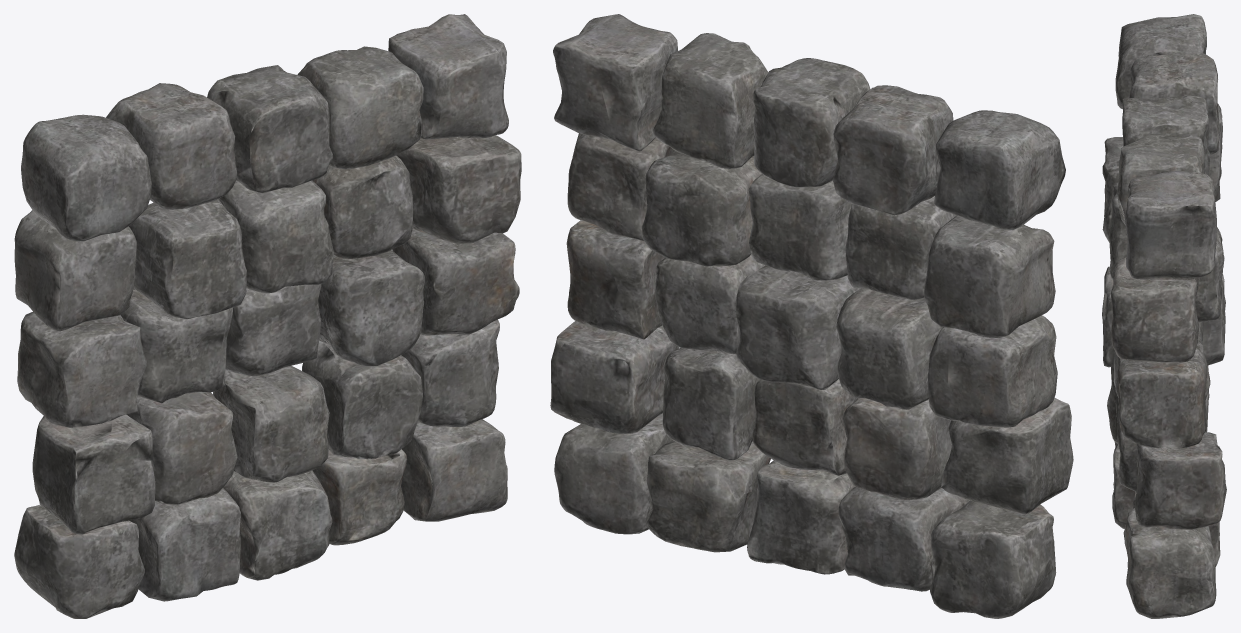
File: rocks_concave.gltf
3 renders of one model, left to right at view 1: azimuth 30°, elevation 25°; view 2: azimuth 150°, elevation 25°; view 3: azimuth 270°, elevation 25°, orthographic. The views are drawn at different scales.
Visible parts, largest first — view 1: Object452, Object440, Object454, Object439, Object456, Object449, Object444, Object453, Object435, Object455, Object442, Object451 (+13 smaller); view 2: Object455, Object452, Object442, Object435, Object449, Object440, Object453, Object433, Object445, Object439, Object437, Object454 (+13 smaller); view 3: Object435, Object443, Object438, Object445, Object444, Object449, Object452, Object439, Object453, Object437, Object456, Object433 (+8 smaller).
Boxes of the visible parts, left/top/right/bottom form: Object452: left=21, top=114, right=151, bottom=241; Object440: left=17, top=312, right=146, bottom=427; Object454: left=32, top=414, right=155, bottom=534; Object439: left=207, top=65, right=332, bottom=193; Object456: left=128, top=199, right=246, bottom=319; Object449: left=106, top=83, right=236, bottom=209; Object444: left=396, top=135, right=521, bottom=243; Object453: left=297, top=46, right=423, bottom=169; Object435: left=388, top=14, right=508, bottom=139; Object455: left=14, top=210, right=136, bottom=331; Object442: left=14, top=504, right=144, bottom=618; Object451: left=213, top=365, right=329, bottom=482; Object455: left=924, top=215, right=1055, bottom=338; Object452: left=934, top=110, right=1065, bottom=229; Object442: left=930, top=500, right=1056, bottom=618; Object435: left=553, top=14, right=677, bottom=151; Object449: left=833, top=85, right=953, bottom=215; Object440: left=927, top=315, right=1057, bottom=427; Object453: left=653, top=33, right=768, bottom=168; Object433: left=735, top=265, right=860, bottom=389; Object445: left=550, top=321, right=679, bottom=434; Object439: left=753, top=58, right=870, bottom=187; Object437: left=641, top=151, right=761, bottom=266; Object454: left=941, top=397, right=1073, bottom=514; Object435: left=1125, top=171, right=1216, bottom=280; Object443: left=1123, top=508, right=1216, bottom=618; Object438: left=1117, top=341, right=1207, bottom=448; Object445: left=1134, top=432, right=1226, bottom=529; Object444: left=1110, top=257, right=1198, bottom=362; Object449: left=1129, top=51, right=1219, bottom=154; Object452: left=1115, top=14, right=1206, bottom=109; Object439: left=1122, top=95, right=1209, bottom=175; Object453: left=1117, top=134, right=1205, bottom=225; Object437: left=1195, top=227, right=1224, bottom=322; Object456: left=1102, top=137, right=1123, bottom=242; Object433: left=1202, top=274, right=1225, bottom=365.
Bounding box in the file's own units: 186 × 183 × 49.11.
1 material, 1 textured.
